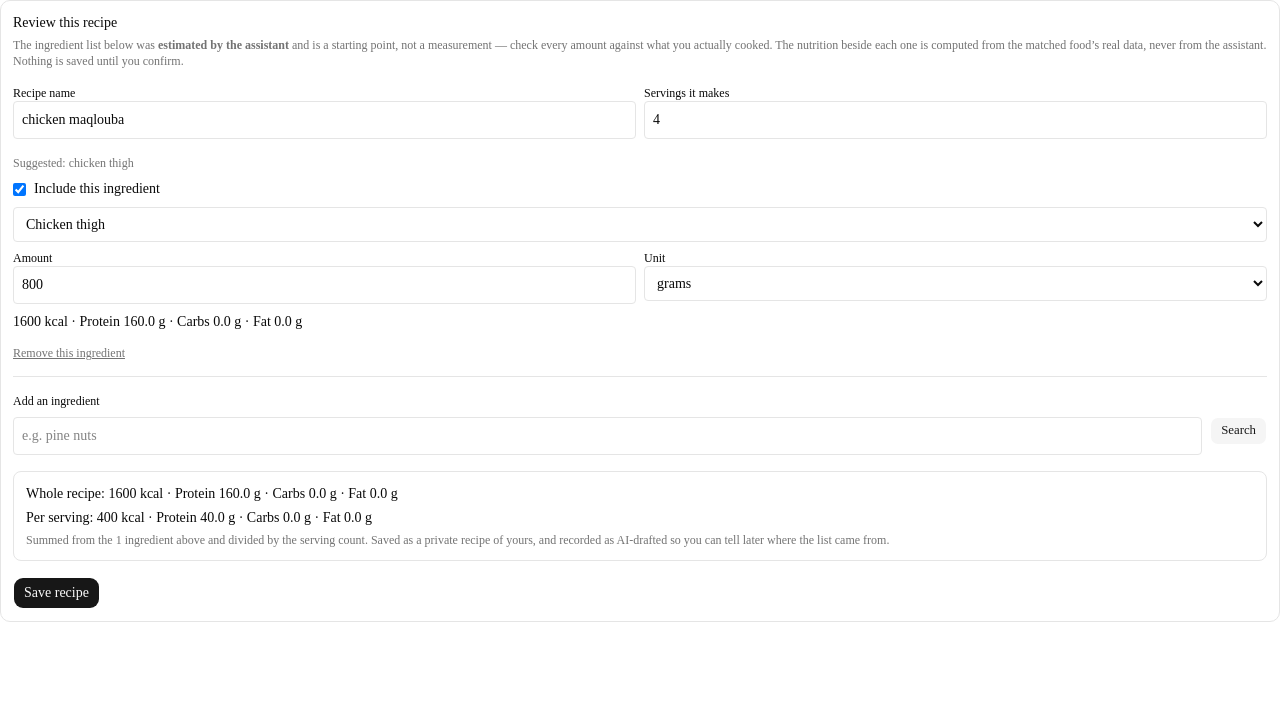
Scenario: RecipeDraftReview — the total is the sum of its parts › follows the arithmetic when an amount is corrected
Expected: the text "Whole recipe: 1600 kcal" is shown, [26,486,398,501]
Note: The owner weighed it: 600 g, not 800.
Replace the text in the number field labelled "Amount" with "600" at (324, 285), box [13,266,636,304]
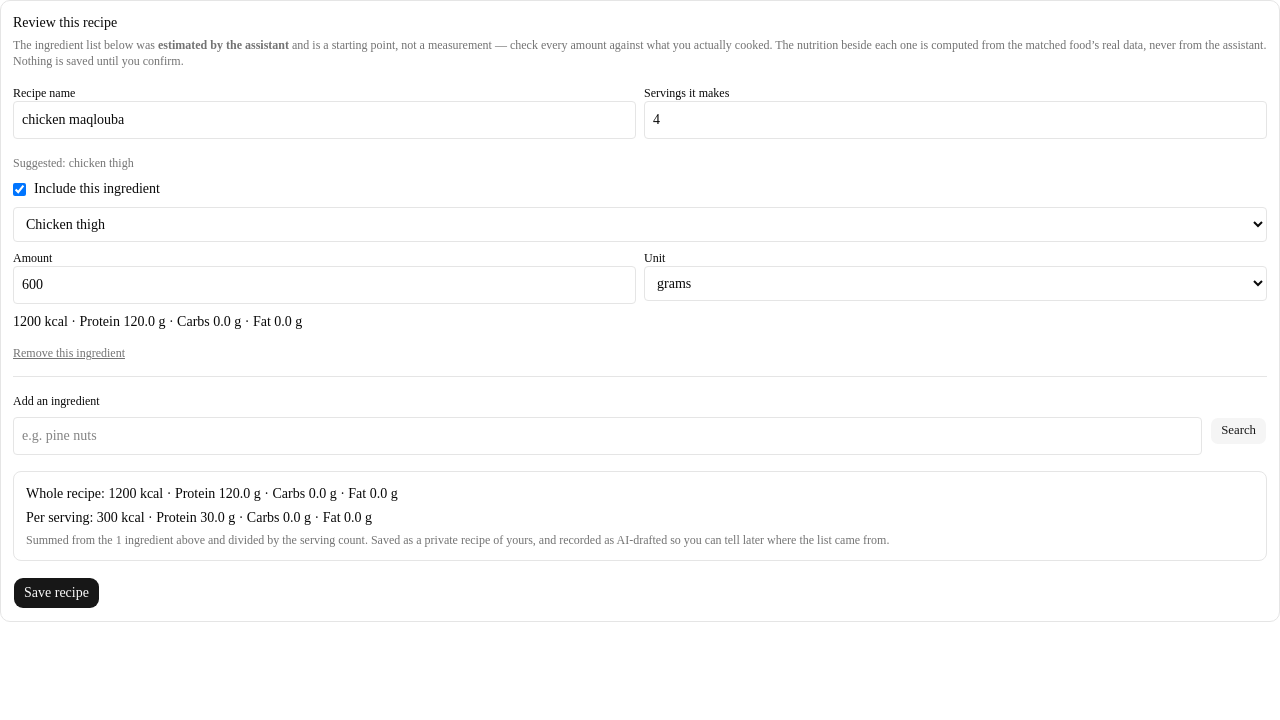
Result: the text "Whole recipe: 1200 kcal" is shown at [26,486,398,501]
